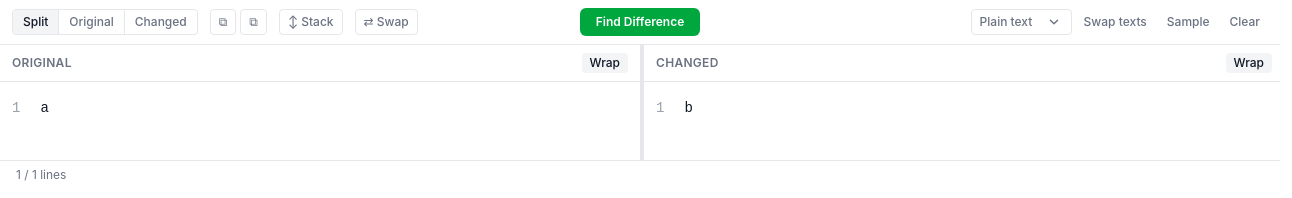
Scenario: DiffChecker › pop-out › does not hide a pane just from clicking pop-out when the popup is blocked
The image size is (1292, 198).
What coordinates should you click on to do the following:
click the button named "Open Original in a new window"
I would click on:
 (223, 22)
Its box is x1=210 y1=9 x2=236 y2=35.
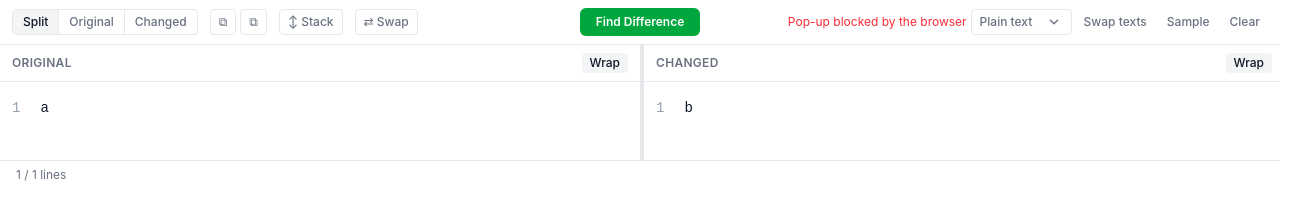
Check: the text "Pop-up blocked by the browser" is shown, box x1=788 y1=14 x2=967 y2=30
